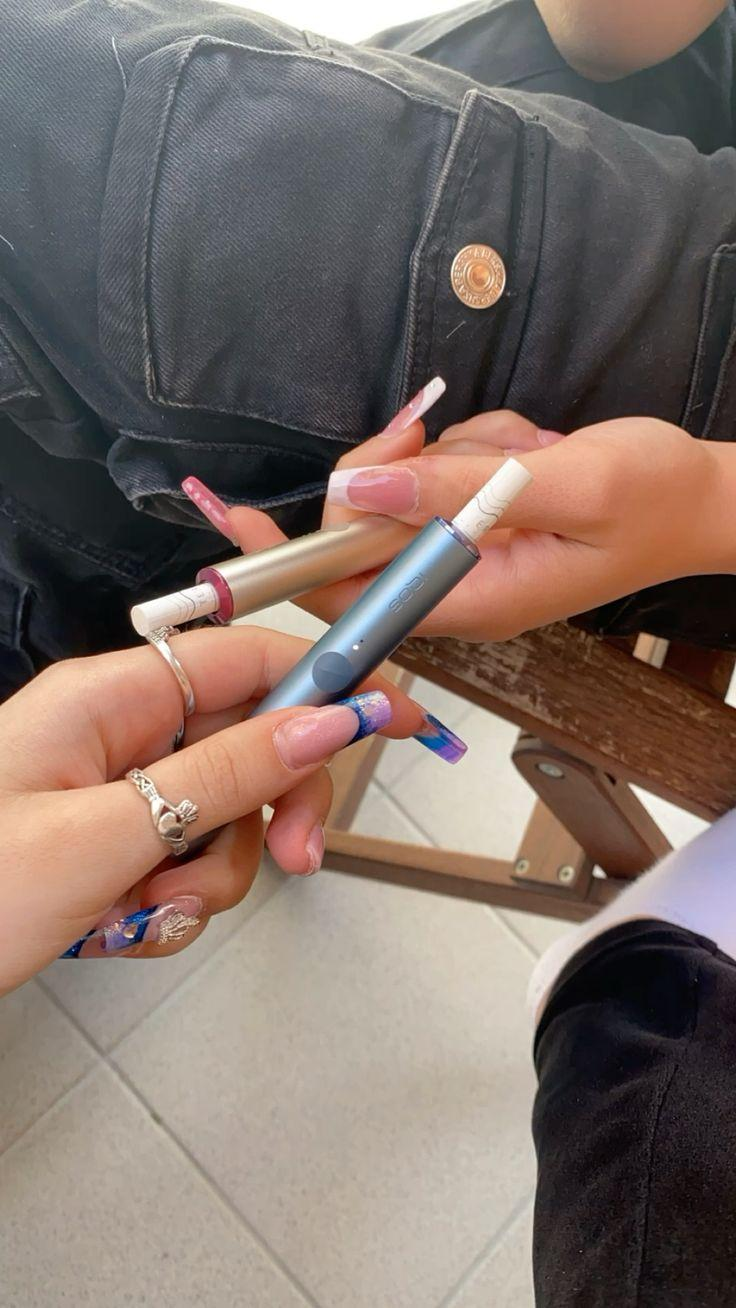iqos: (254, 459, 527, 713), (133, 515, 421, 636), (440, 471, 527, 590)
